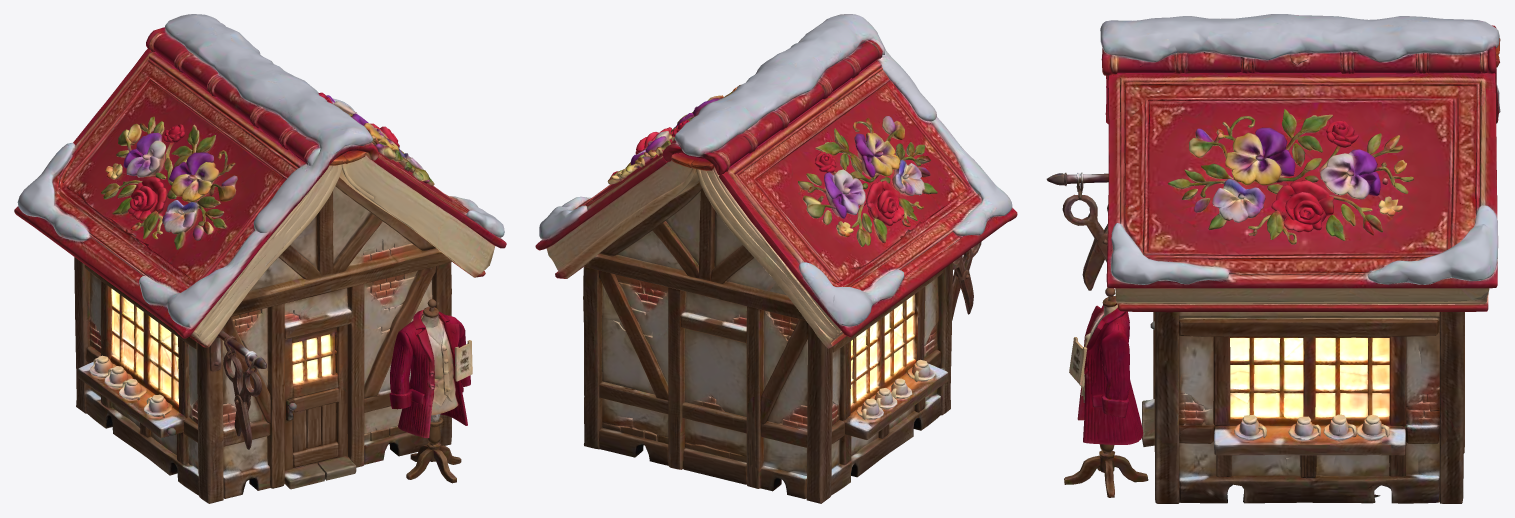
Rendered from tailor-of-gloucester.glb.
3 views of the same model, side by side, from view 1: azimuth 30°, elevation 25°; view 2: azimuth 150°, elevation 25°; view 3: azimuth 270°, elevation 25° (orthographic). The views are drawn at different scales.
Visible parts, largest first — view 1: model; view 2: model; view 3: model.
Boxes of the visible parts, <box> form: model: <box>14,14,506,503</box>; model: <box>535,14,1017,503</box>; model: <box>1046,14,1500,503</box>.
Bounding box in the file's own units: 1.83 × 1.89 × 1.88.
1 material, 1 textured.
